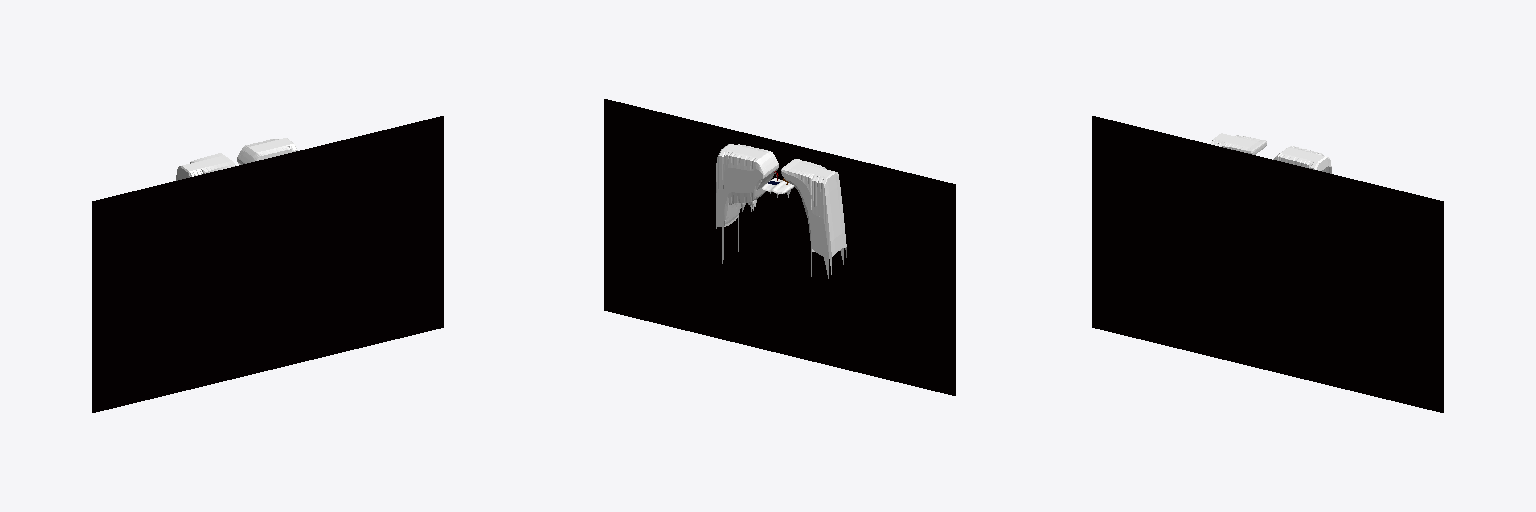
The picture shows the model from 3 angles: view 1: azimuth 30°, elevation 25°; view 2: azimuth 150°, elevation 25°; view 3: azimuth 330°, elevation 25°; orthographic projection.
Parts seen in each view (by area): view 1: 02.Background.001_Background.003_Plane.000, 02.Ground.001_Cube.001, 02.Ground.002_Cube.002; view 2: 02.Background.001_Background.003_Plane.000, 02.Ground.002_Cube.002, 02.Ground.001_Cube.001; view 3: 02.Background.001_Background.003_Plane.000, 02.Ground.001_Cube.001, 02.Ground.002_Cube.002.
Boxes of the visible parts, x1,y1,x2,y2 form: 02.Background.001_Background.003_Plane.000: [92, 116, 443, 412]; 02.Ground.001_Cube.001: [237, 138, 297, 164]; 02.Ground.002_Cube.002: [176, 153, 235, 180]; 02.Background.001_Background.003_Plane.000: [604, 99, 955, 395]; 02.Ground.002_Cube.002: [781, 159, 846, 278]; 02.Ground.001_Cube.001: [716, 144, 778, 263]; 02.Background.001_Background.003_Plane.000: [1092, 116, 1443, 412]; 02.Ground.001_Cube.001: [1273, 146, 1331, 173]; 02.Ground.002_Cube.002: [1211, 133, 1266, 154].
Size of the model in its own units: 104 by 59.92 by 12.
Materials: 6 (2 with a texture image).